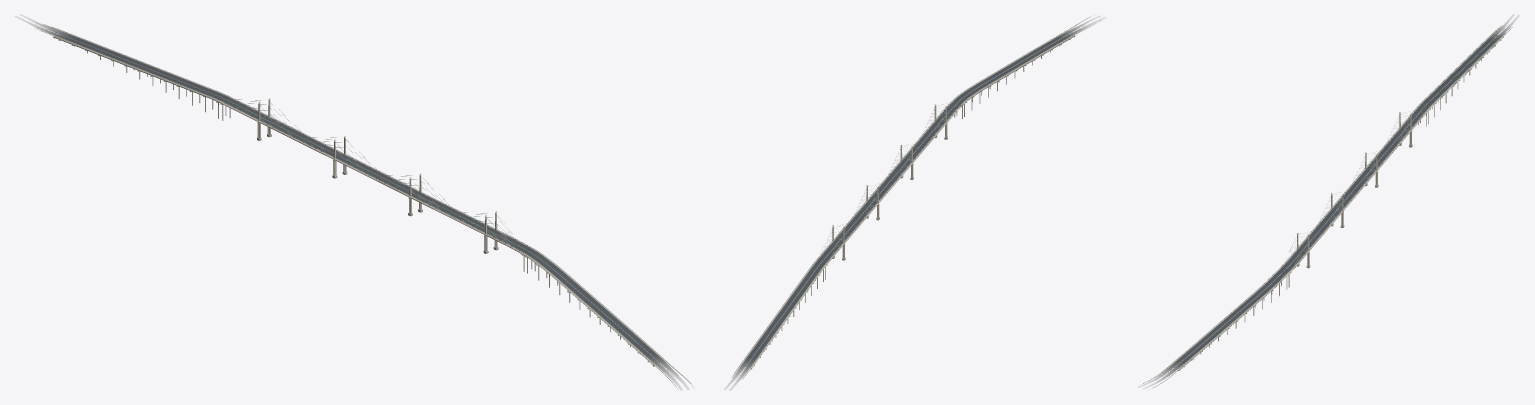
File: golden-ears-bridge-far.glb
3 renders of one model, left to right at view 1: azimuth 30°, elevation 25°; view 2: azimuth 150°, elevation 25°; view 3: azimuth 330°, elevation 25°, orthographic. The views are drawn at different scales.
Visible parts, largest first — view 1: golden-ears-bridge-0-concrete, golden-ears-bridge-0-asphalt, golden-ears-bridge-0-cable, golden-ears-bridge-0-steel, golden-ears-bridge-0-landing, golden-ears-bridge-0-tower; view 2: golden-ears-bridge-0-asphalt, golden-ears-bridge-0-concrete, golden-ears-bridge-0-landing, golden-ears-bridge-0-tower; view 3: golden-ears-bridge-0-asphalt, golden-ears-bridge-0-concrete, golden-ears-bridge-0-landing, golden-ears-bridge-0-tower.
Boxes of the visible parts, left/top/right/bottom form: golden-ears-bridge-0-concrete: left=34, top=24, right=694, bottom=390; golden-ears-bridge-0-asphalt: left=70, top=38, right=653, bottom=354; golden-ears-bridge-0-cable: left=228, top=99, right=516, bottom=248; golden-ears-bridge-0-steel: left=55, top=37, right=652, bottom=364; golden-ears-bridge-0-landing: left=14, top=14, right=689, bottom=390; golden-ears-bridge-0-tower: left=257, top=99, right=497, bottom=251; golden-ears-bridge-0-asphalt: left=748, top=38, right=1063, bottom=357; golden-ears-bridge-0-concrete: left=731, top=14, right=1106, bottom=380; golden-ears-bridge-0-landing: left=723, top=15, right=1105, bottom=390; golden-ears-bridge-0-tower: left=832, top=105, right=947, bottom=258; golden-ears-bridge-0-asphalt: left=1180, top=41, right=1495, bottom=360; golden-ears-bridge-0-concrete: left=1137, top=24, right=1512, bottom=390; golden-ears-bridge-0-landing: left=1138, top=14, right=1520, bottom=389; golden-ears-bridge-0-tower: left=1297, top=113, right=1411, bottom=266.
Bounding box in the file's own units: 323 × 87.16 × 2290.
